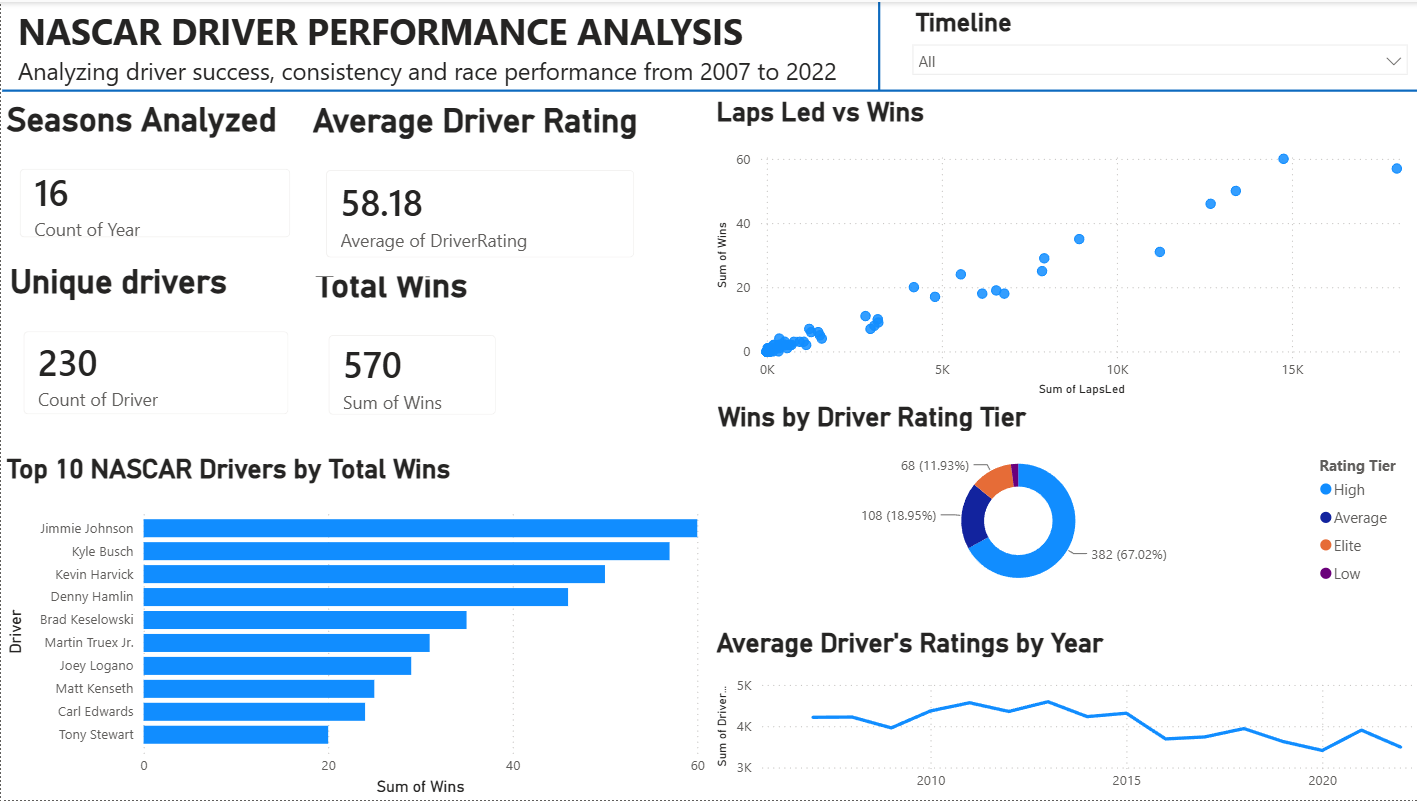

What the dashboard file says about the page in this screenshot:
{"tool":"powerbi","page":{"name":"Page 1","canvas":[1280,720],"ordinal":0},"visuals":[{"type":"textbox","box":[10,0,801.7,85],"z":0},{"type":"cardVisual","title":"Total Wins","fields":{"Data":["Sum(nascar_cleaned.Wins)"]},"box":[278.3,238.3,185,151.7],"z":1000},{"type":"cardVisual","title":"Unique drivers","fields":{"Data":["Count(nascar_cleaned.Driver)"]},"box":[3.3,235,273.3,155],"z":2000},{"type":"cardVisual","title":"Average Driver Rating","fields":{"Data":["Avg(nascar_cleaned.DriverRating)"]},"box":[275.7,88.6,312.9,158.6],"z":3000},{"type":"cardVisual","title":"Seasons Analyzed","fields":{"Data":["Count(nascar_cleaned.Year)"]},"box":[0,88.3,278.3,141.7],"z":4000},{"type":"clusteredBarChart","title":"Top 10 NASCAR Drivers by Total Wins","fields":{"Category":["nascar_cleaned.Driver"],"Y":["Sum(nascar_cleaned.Wins)"]},"box":[0,406.7,640,313.3],"z":5000},{"type":"lineChart","title":"Average Driver''s Ratings by Year","fields":{"Category":["nascar_cleaned.Year"],"Y":["Sum(nascar_cleaned.DriverRating)"]},"box":[640,563.3,640,156.7],"z":6000},{"type":"scatterChart","title":"Laps Led vs Wins","fields":{"X":["Sum(nascar_cleaned.LapsLed)"],"Y":["Sum(nascar_cleaned.Wins)"],"Category":["nascar_cleaned.Driver"]},"box":[640,85,638.3,275],"z":7000},{"type":"donutChart","title":"Wins by Driver Rating Tier","fields":{"Category":["nascar_cleaned.Rating Tier"],"Y":["Sum(nascar_cleaned.Wins)"]},"box":[641.7,360,638.3,178.3],"z":8000},{"type":"slicer","title":"Timeline","fields":{"Values":["nascar_cleaned.Year"]},"box":[811.7,0,466.7,88.3],"z":9000},{"type":"shape","box":[1.7,73.3,1278.3,13.3],"z":10000},{"type":"shape","box":[716.7,0,150,80],"z":10001}]}

Visuals, with their boxes in screenshot pixels (x1, y1, x2, y2), scaled from the page's 1280x720 canvas onto the 1417x801 screenshot:
textbox: pyautogui.locateOnScreen(11, 0, 899, 95)
"Total Wins" cardVisual: pyautogui.locateOnScreen(308, 265, 513, 434)
"Unique drivers" cardVisual: pyautogui.locateOnScreen(4, 261, 306, 434)
"Average Driver Rating" cardVisual: pyautogui.locateOnScreen(305, 99, 652, 275)
"Seasons Analyzed" cardVisual: pyautogui.locateOnScreen(0, 98, 308, 256)
"Top 10 NASCAR Drivers by Total Wins" clusteredBarChart: pyautogui.locateOnScreen(0, 452, 708, 800)
"Average Driver''s Ratings by Year" lineChart: pyautogui.locateOnScreen(708, 627, 1416, 800)
"Laps Led vs Wins" scatterChart: pyautogui.locateOnScreen(708, 95, 1415, 400)
"Wins by Driver Rating Tier" donutChart: pyautogui.locateOnScreen(710, 400, 1416, 599)
"Timeline" slicer: pyautogui.locateOnScreen(899, 0, 1415, 98)
shape: pyautogui.locateOnScreen(2, 82, 1416, 96)
shape: pyautogui.locateOnScreen(793, 0, 959, 89)
